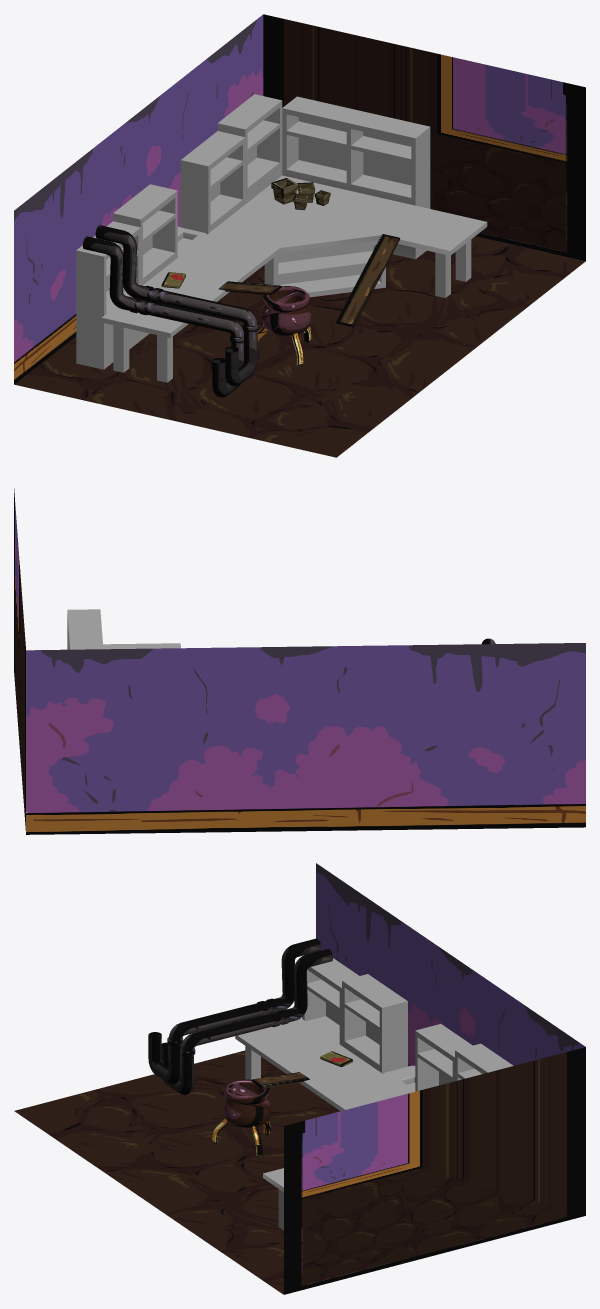
Rendered from Environment_04_Kitchen_New.fbx.
3 views of the same model, one above another, from view 1: azimuth 30°, elevation 25°; view 2: azimuth 150°, elevation 25°; view 3: azimuth 270°, elevation 25° (orthographic). The views are drawn at different scales.
Parts seen in each view (by area): view 1: OBJ_Background, OBJ_Table, OBJ_CabinetDouble, OBJ_Cabinet1, OBJ_Cabinet3, OBJ_Shelf_Low, OBJ_Right_Pipe_2, OBJ_Cabinet, OBJ_Cabinet2, OBJ_Right_Pipe_1, OBJ_Cauldron, OBJ_Plank_Ramp (+2 smaller); view 2: OBJ_Background, OBJ_CabinetDouble; view 3: OBJ_Background, OBJ_Table, OBJ_Cabinet2, OBJ_Right_Pipe_2, OBJ_Right_Pipe_1, OBJ_Cabinet3, OBJ_Cabinet1, OBJ_Cauldron, OBJ_Cabinet, OBJ_Plank_Cauldron, OBJ_Sink.
Part boxes in pixels (<box>): OBJ_Background: <box>14,14,585,457</box>; OBJ_Table: <box>101,175,487,382</box>; OBJ_CabinetDouble: <box>282,96,430,259</box>; OBJ_Cabinet1: <box>180,131,245,234</box>; OBJ_Cabinet3: <box>76,221,140,369</box>; OBJ_Shelf_Low: <box>264,240,385,297</box>; OBJ_Right_Pipe_2: <box>95,225,258,386</box>; OBJ_Cabinet: <box>217,94,282,203</box>; OBJ_Cabinet2: <box>113,184,177,340</box>; OBJ_Right_Pipe_1: <box>82,236,243,397</box>; OBJ_Cauldron: <box>257,286,311,365</box>; OBJ_Plank_Ramp: <box>336,234,399,327</box>; OBJ_Background: <box>14,488,585,834</box>; OBJ_CabinetDouble: <box>67,609,103,649</box>; OBJ_Background: <box>14,863,585,1294</box>; OBJ_Table: <box>235,1018,409,1230</box>; OBJ_Cabinet2: <box>342,974,407,1074</box>; OBJ_Right_Pipe_2: <box>148,938,321,1084</box>; OBJ_Right_Pipe_1: <box>161,949,332,1094</box>; OBJ_Cabinet3: <box>302,958,358,1045</box>; OBJ_Cabinet1: <box>415,1024,472,1091</box>; OBJ_Cauldron: <box>212,1079,271,1156</box>; OBJ_Cabinet: <box>455,1043,513,1081</box>; OBJ_Plank_Cauldron: <box>252,1072,309,1088</box>; OBJ_Sink: <box>384,1065,415,1092</box>.
Bounding box in the file's own units: 1095 × 343 × 1006.
8 materials, 7 textured.
